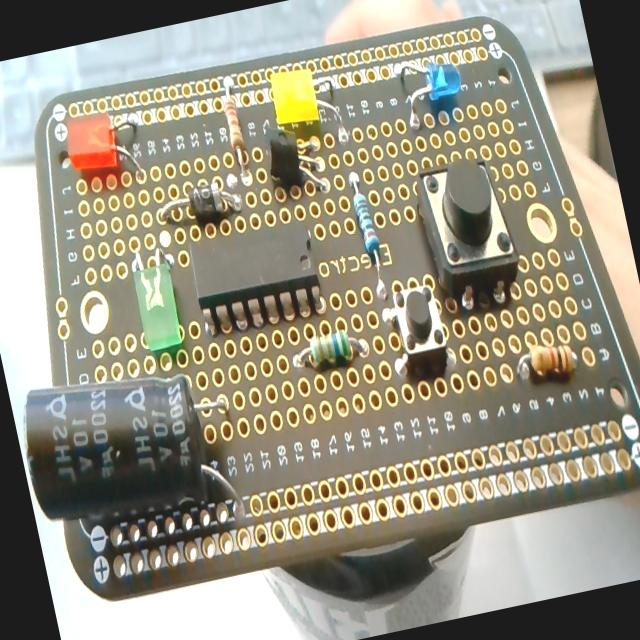Electrolytic capacitor: (12, 347, 251, 557)
IC: (181, 199, 326, 334)
diode: (156, 178, 244, 231)
led: (60, 104, 148, 192), (393, 50, 468, 130), (129, 256, 187, 356), (266, 64, 324, 141)
resistor: (345, 168, 393, 302), (289, 322, 369, 373), (218, 86, 254, 186), (511, 334, 578, 383)
switch: (408, 150, 528, 317), (379, 277, 454, 381)
transistor: (262, 120, 334, 201)
